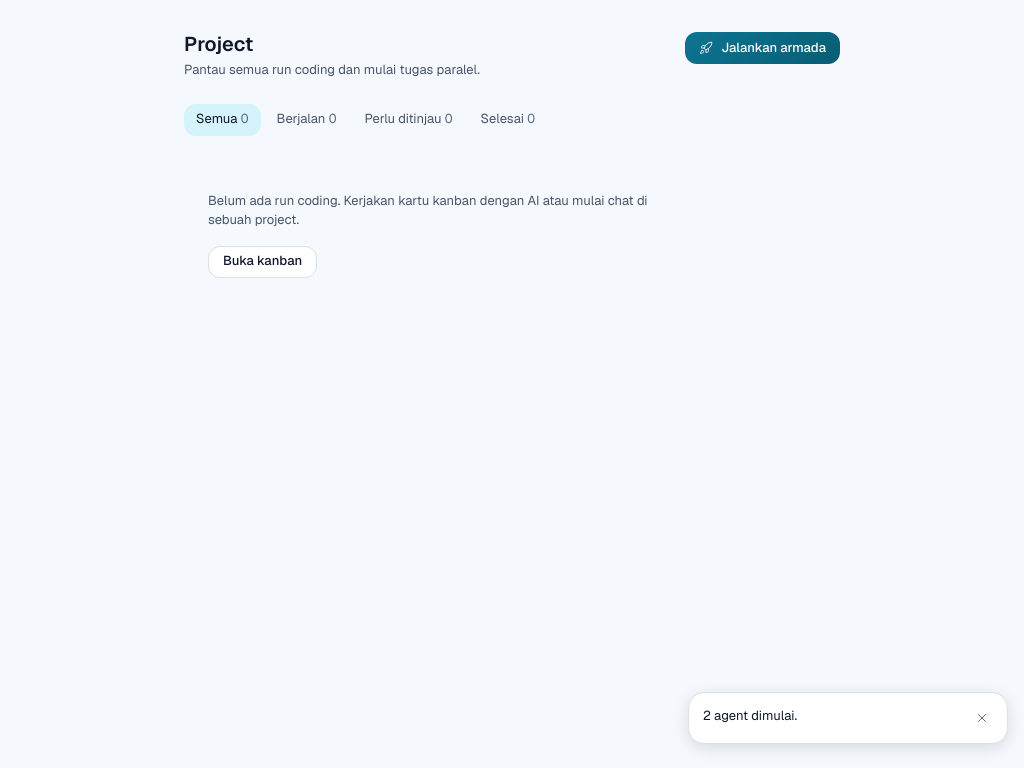
armada agent › batas agent per project (409) tampil sebagai pesan dan dialog tetap terbuka dengan isinya
The image size is (1024, 768).
Click the button "Jalankan armada".
click(763, 48)  # box top-left (685, 32), bottom-right (840, 64)
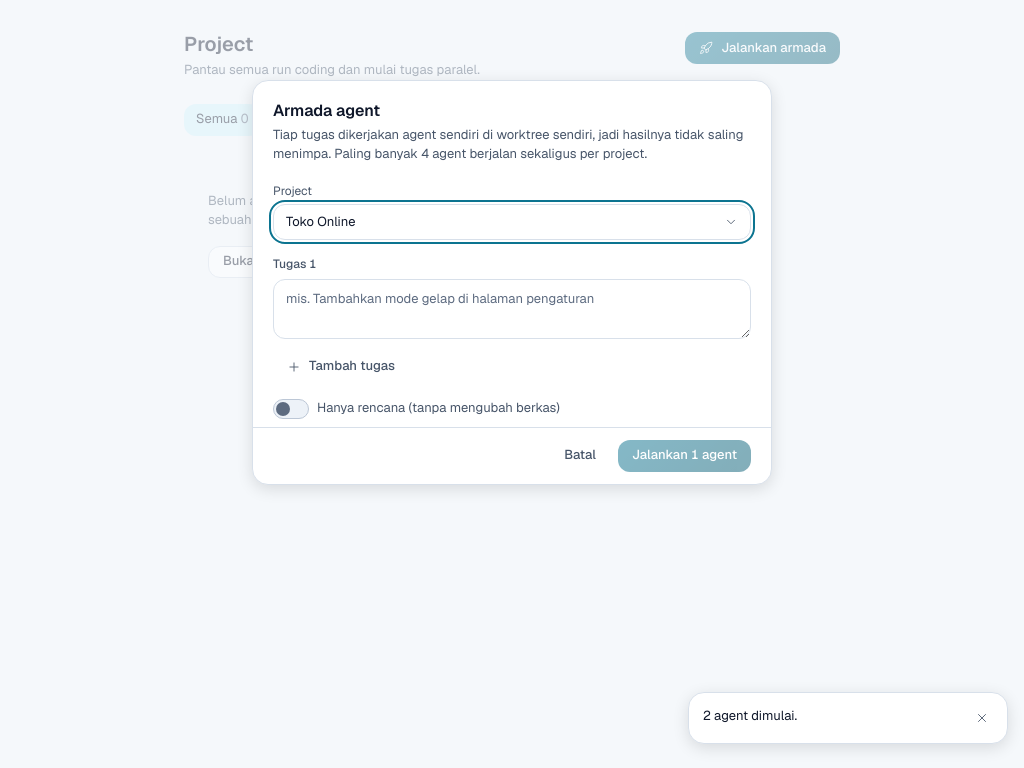
Type "Tugas yang ditolak" into the text box labelled "Tugas 1".
click(512, 309); type("Tugas yang ditolak")  # box top-left (273, 279), bottom-right (751, 339)
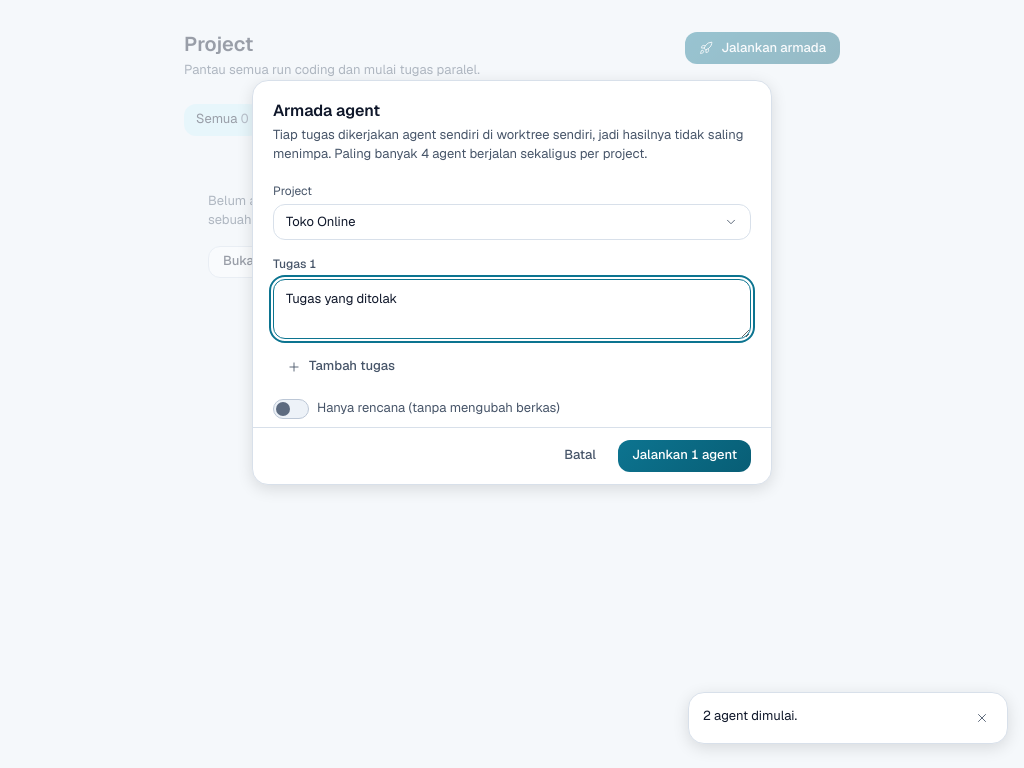
Click the button "Jalankan 1 agent".
click(684, 456)  # box top-left (618, 440), bottom-right (751, 472)
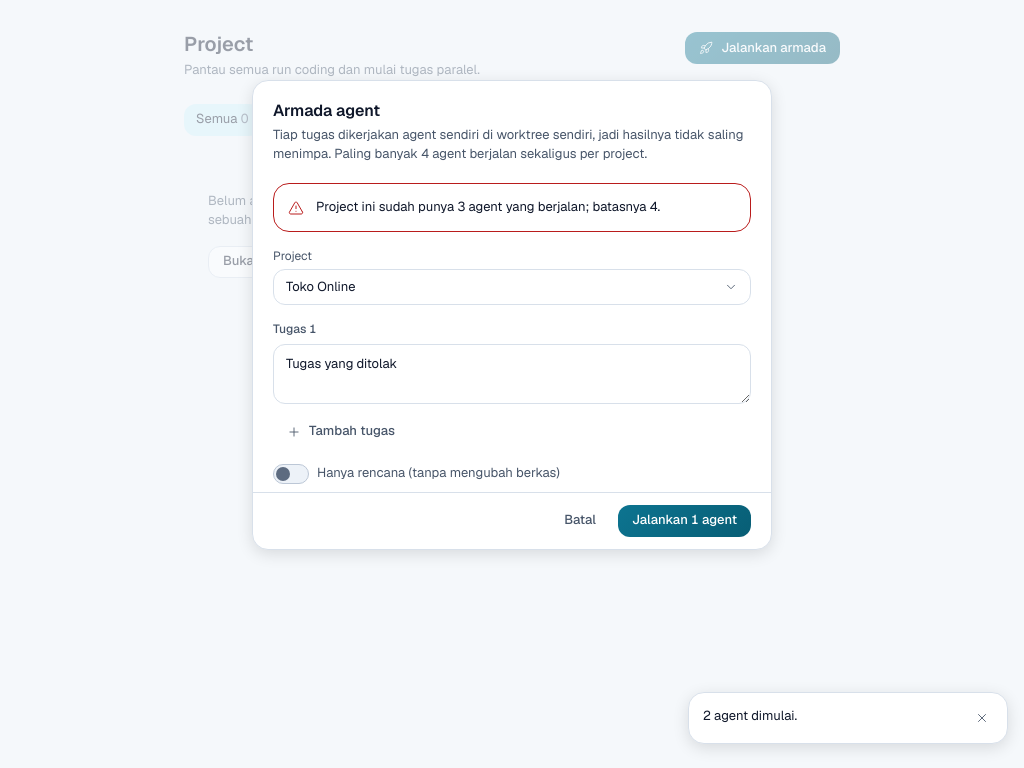
Expected: the text "Project ini sudah punya 3 agent yang berjalan; batasnya 4." is shown, top-left (316, 198), bottom-right (660, 216)
